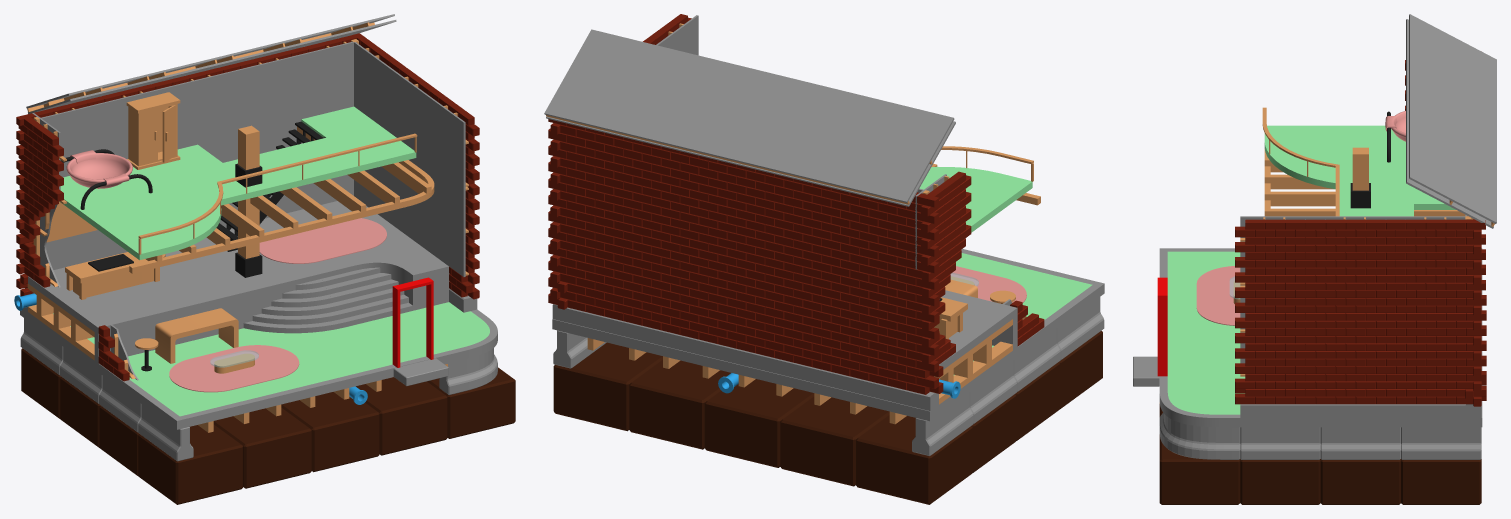
Rendered from hub.FBX.
3 renders of one model, left to right at view 1: azimuth 30°, elevation 25°; view 2: azimuth 150°, elevation 25°; view 3: azimuth 270°, elevation 25°, orthographic. The views are drawn at different scales.
Parts seen in each view (by area): view 1: Floor, RaisedFloor, SecondFloor, BackWallHigh, RightWallHigh, Carpet (×2), Dirt011, RightWallLow, Dirt009, Dirt004, Dirt010, RearWallLow (+22 smaller); view 2: RearWallLow, Roof, BackWallHigh, RearWallFoundation, Floor, Dirt023, Dirt007, Dirt021, Dirt022, Dirt020, RaisedFloor, Dirt019 (+10 smaller); view 3: RightWallLow, RightWallHigh, Roof, Floor, SecondFloor, RightWallFoundation, Dirt004, Dirt005, Dirt007, Dirt006, Rafter011, Carpet (+6 smaller).
Part boxes in pixels (x1,y1,x2,y2): Floor: [20, 302, 497, 432]; RaisedFloor: [14, 201, 449, 363]; SecondFloor: [59, 106, 416, 260]; BackWallHigh: [16, 34, 358, 185]; RightWallHigh: [354, 33, 479, 188]; Carpet (×2): [169, 218, 386, 392]; Dirt011: [138, 404, 243, 504]; RightWallLow: [354, 154, 479, 276]; Dirt009: [281, 386, 379, 472]; Dirt004: [427, 348, 515, 438]; Dirt010: [213, 408, 311, 488]; RearWallLow: [16, 121, 353, 274]; RearWallLow: [548, 178, 938, 372]; Roof: [544, 29, 955, 206]; BackWallHigh: [548, 119, 938, 273]; RearWallFoundation: [548, 277, 943, 410]; Floor: [552, 249, 1104, 424]; Dirt023: [856, 392, 973, 504]; Dirt007: [553, 330, 662, 431]; Dirt021: [704, 373, 814, 467]; Dirt022: [780, 396, 889, 486]; Dirt020: [629, 360, 730, 449]; RaisedFloor: [934, 290, 1017, 404]; Dirt019: [969, 360, 1016, 472]; RightWallLow: [1235, 285, 1486, 381]; RightWallHigh: [1235, 216, 1485, 290]; Roof: [1406, 14, 1496, 228]; Floor: [1159, 248, 1482, 427]; SecondFloor: [1264, 125, 1455, 216]; RightWallFoundation: [1235, 378, 1486, 417]; Dirt004: [1159, 413, 1240, 504]; Dirt005: [1240, 427, 1320, 504]; Dirt007: [1401, 427, 1481, 504]; Dirt006: [1320, 427, 1400, 504]; Rafter011: [1264, 157, 1473, 219]; Carpet: [1196, 266, 1240, 325].
Size of what is drawn, in the model's own units: 1050 by 905 by 902.
